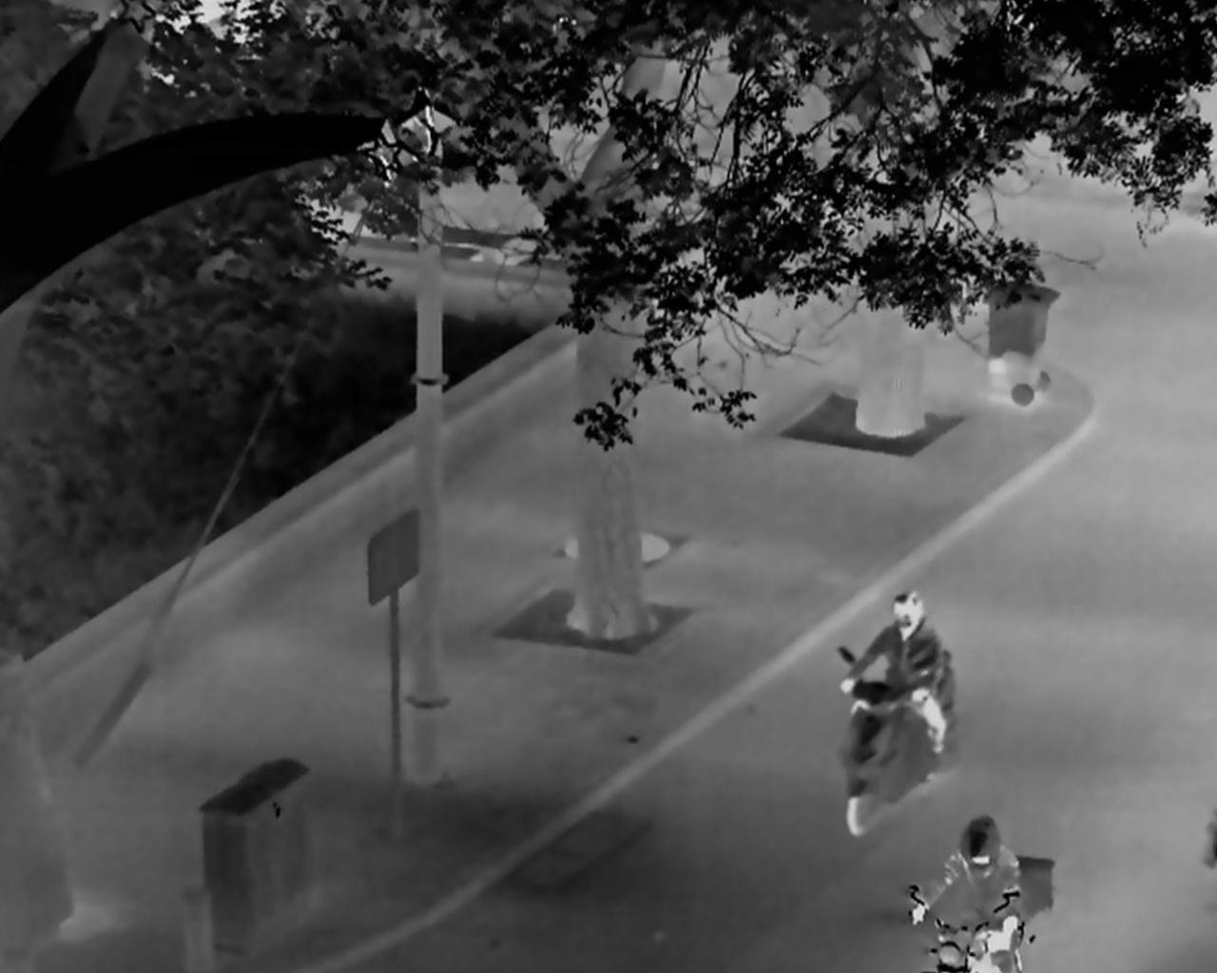person: (906, 813, 1031, 973), (839, 591, 945, 757)
